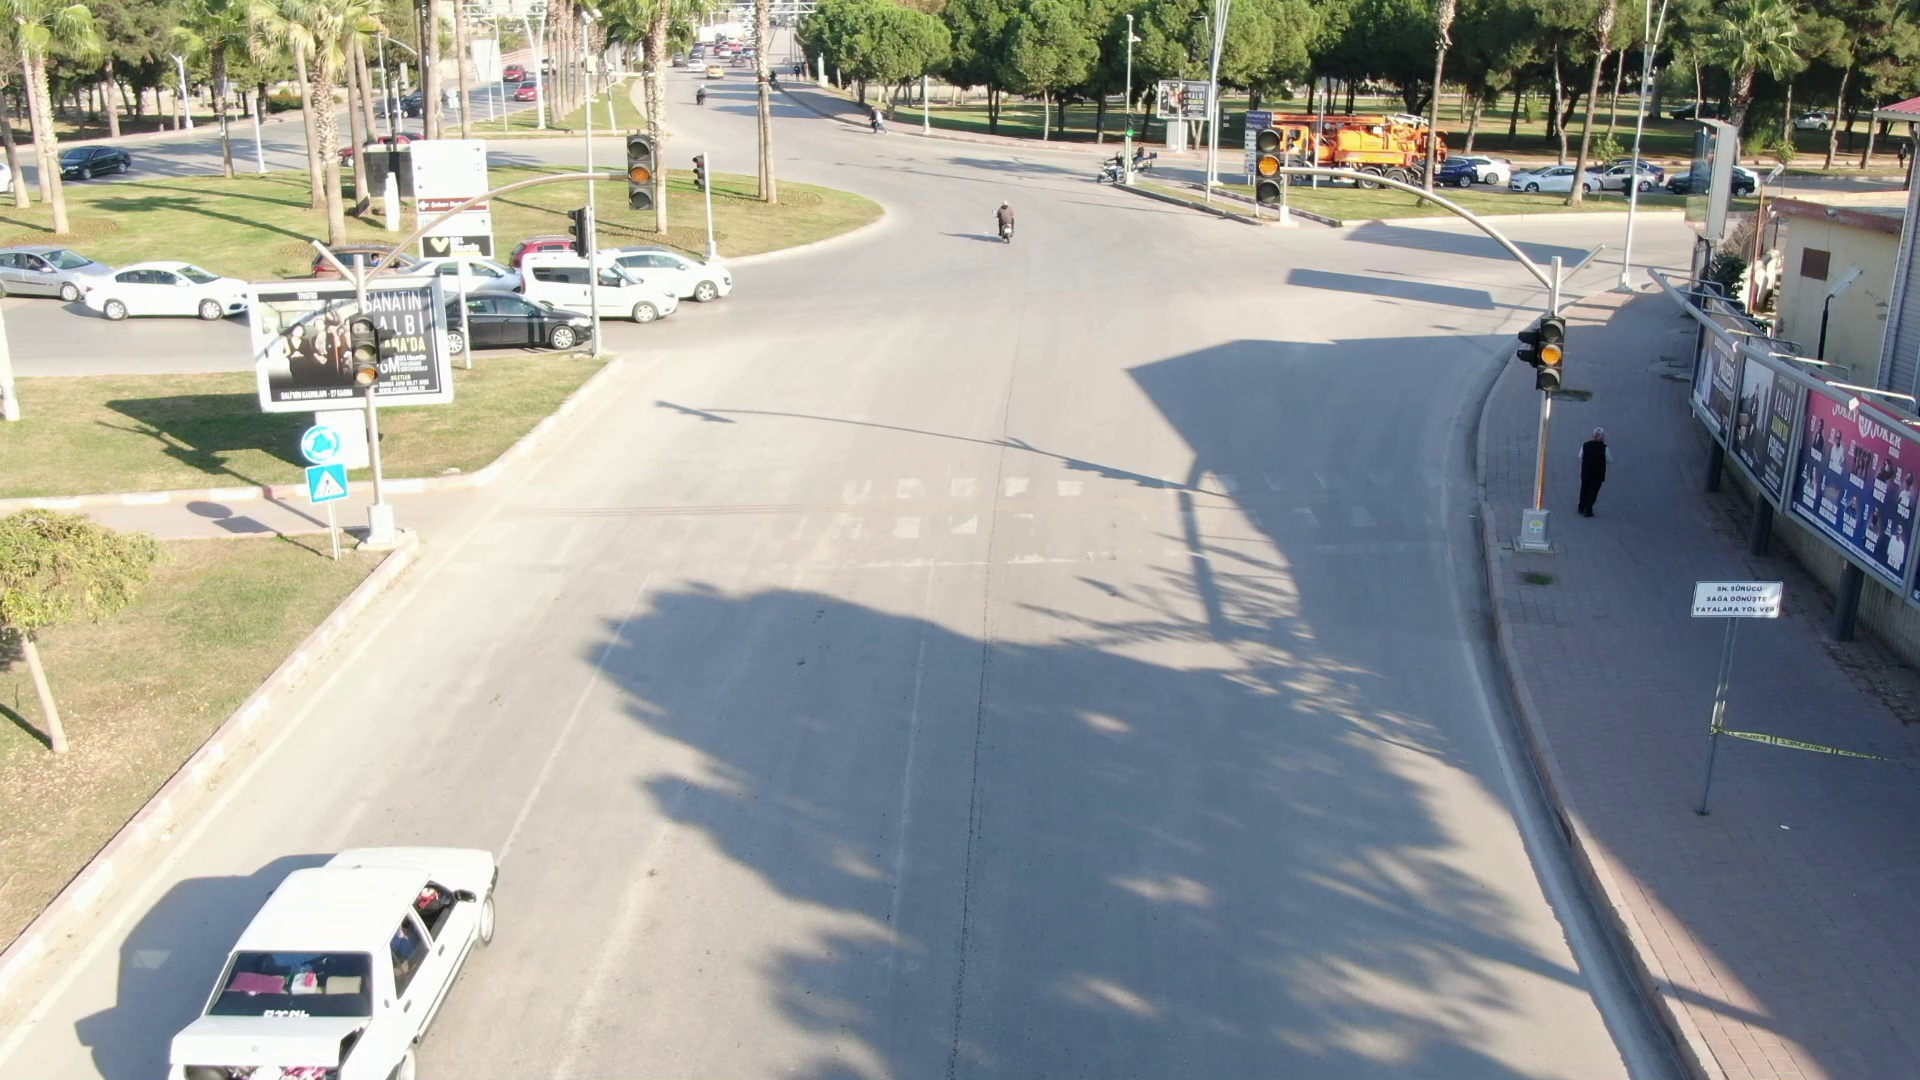car: (168, 843, 531, 1080), (519, 237, 676, 325), (67, 263, 255, 316)
person: (1561, 423, 1627, 519), (990, 196, 1021, 255)
